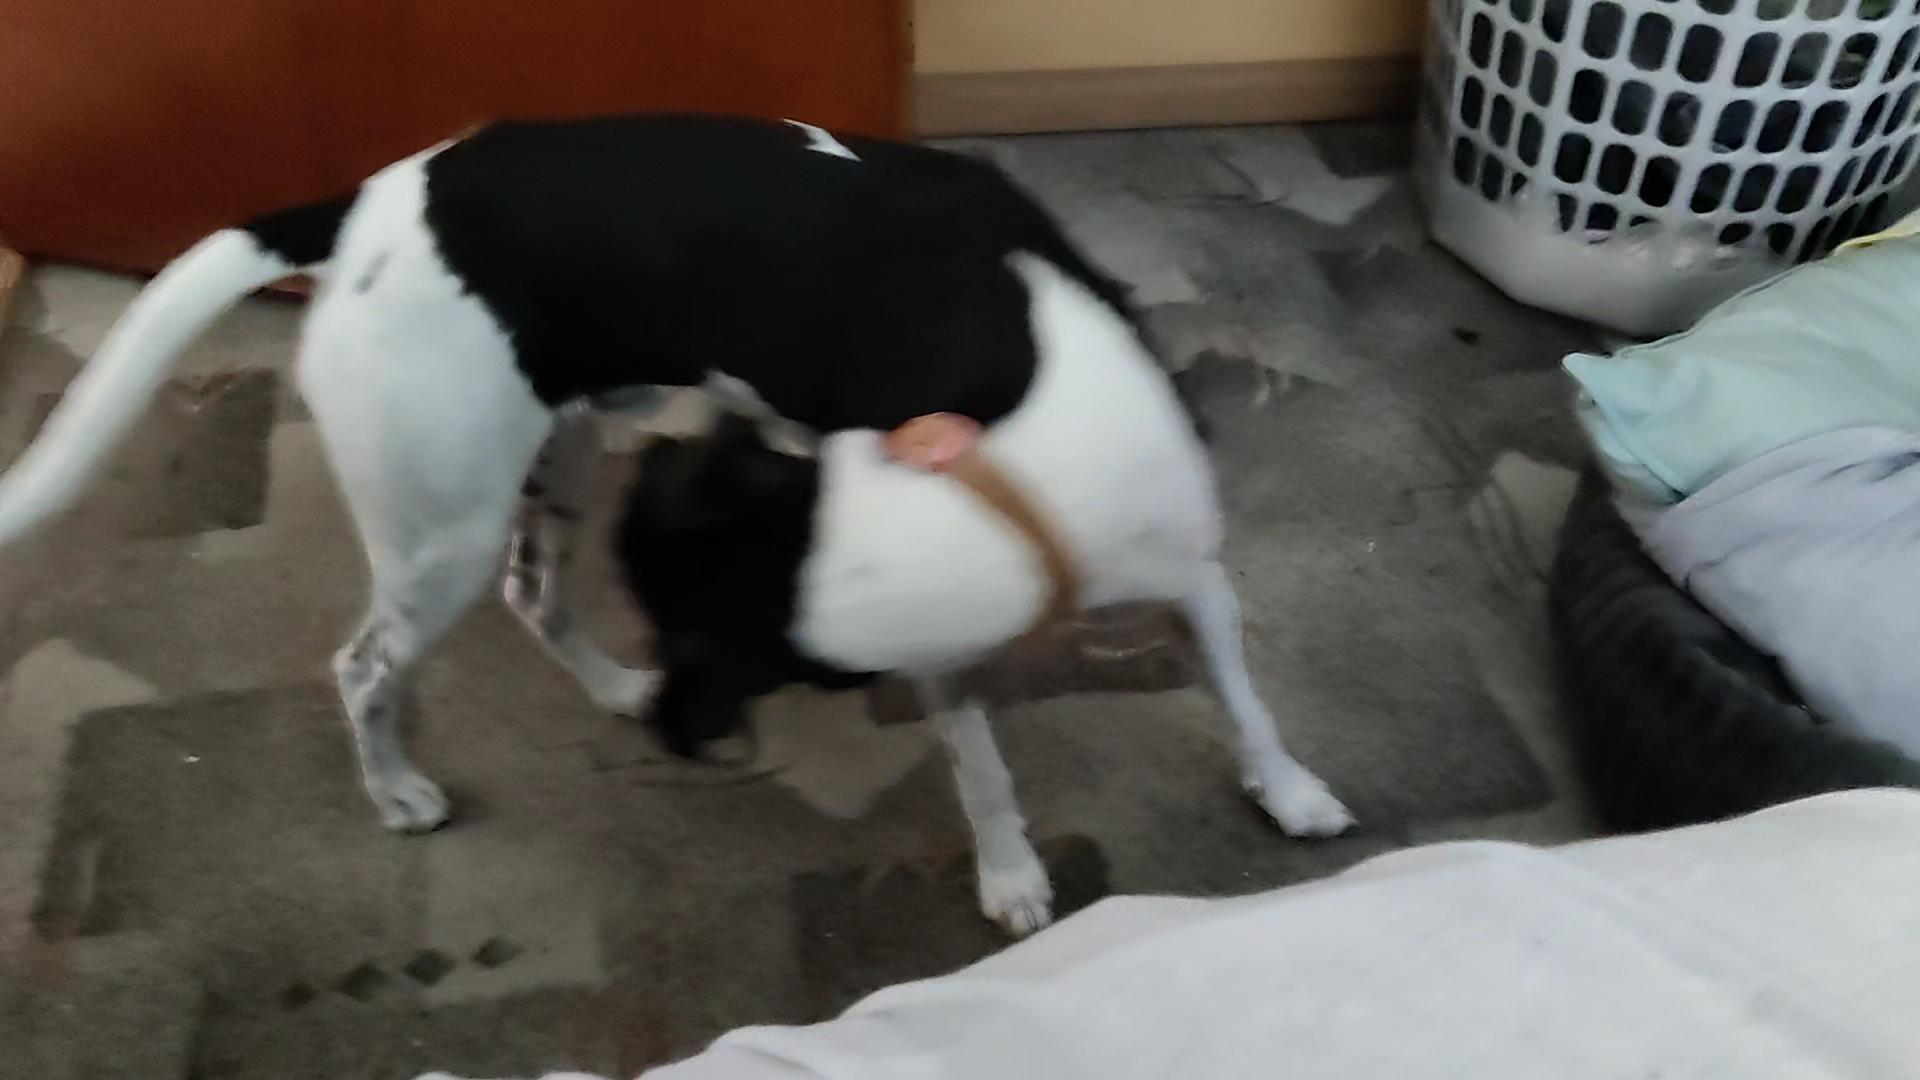Dog: (0, 105, 1366, 936)
